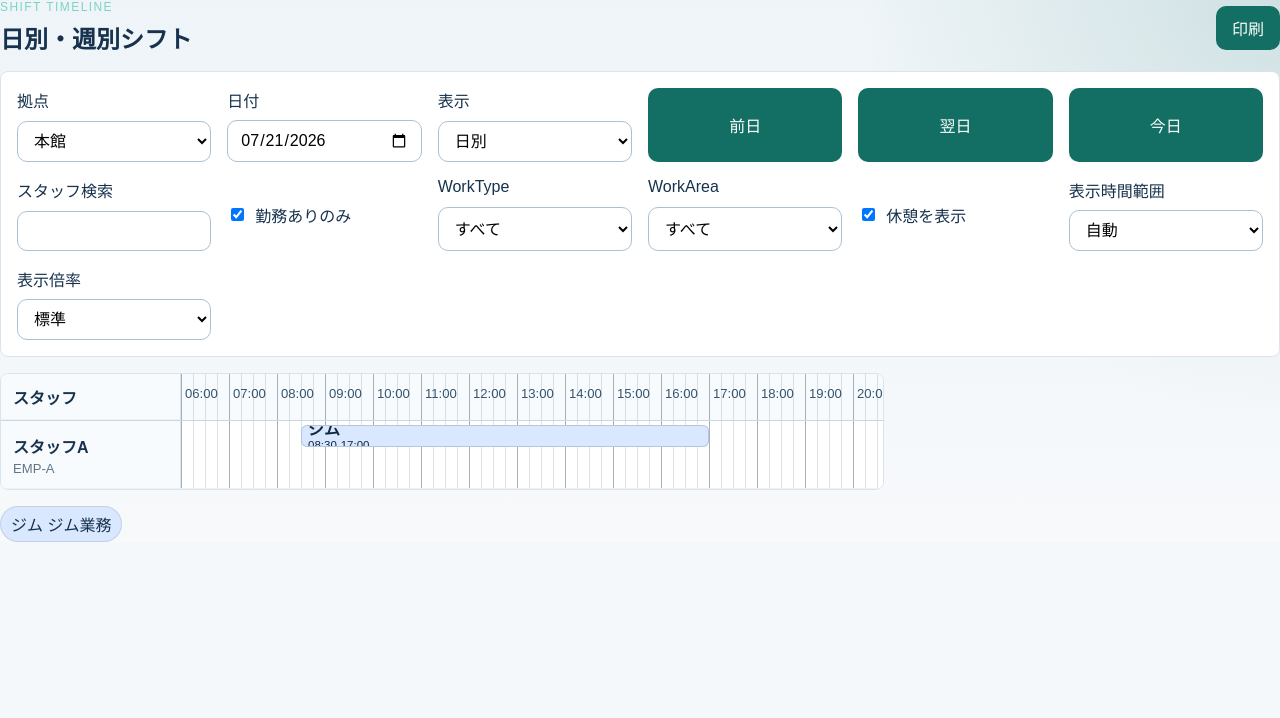
Test case: shift settings pages › shows full assignment detail even when the timeline is filtered
The width and height of the screenshot is (1280, 718).
Expected: the element that starts with "スタッフ" is shown, [0,373,884,490]
Click the button with aria-label "ジム業務": point(324, 430) [301,425,709,447]
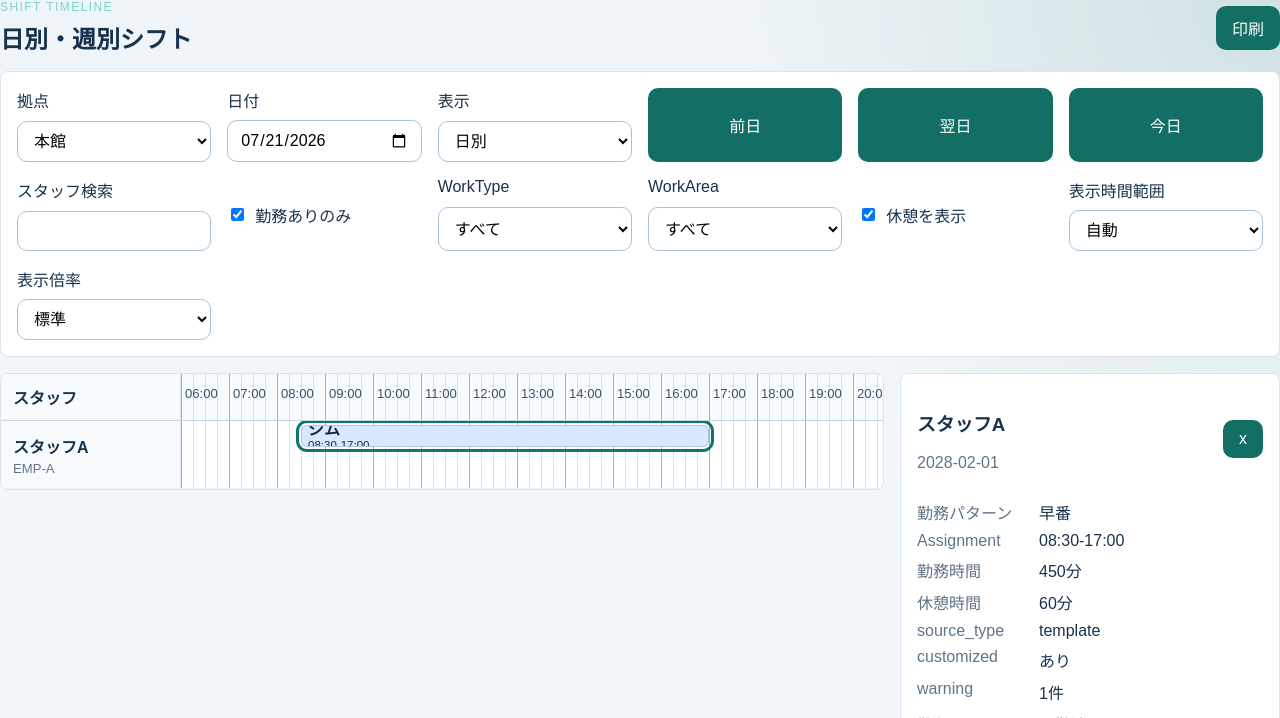
Expected: the text "1件" is shown, [1039,685,1064,702]
Expected: the text "60分" is shown, [1039,595,1073,612]
